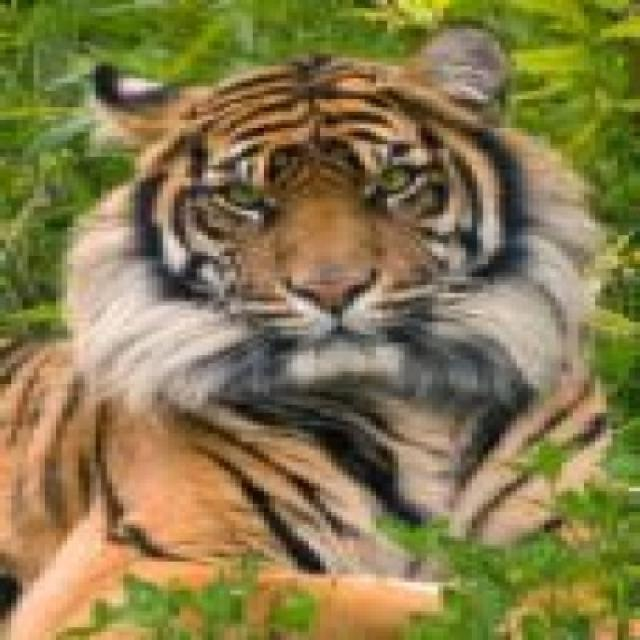Tiger: (2, 23, 614, 592)
